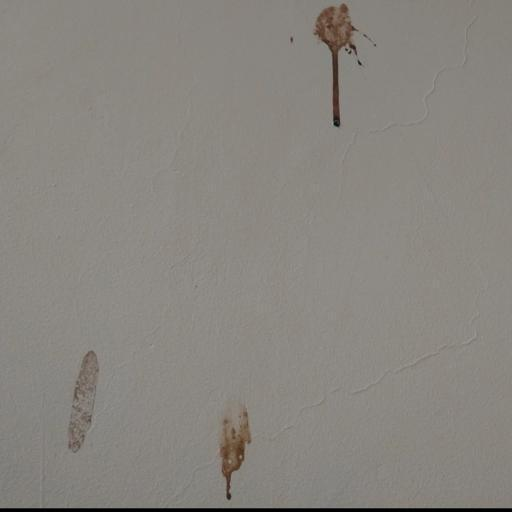stain: (284, 0, 379, 131), (51, 344, 119, 454), (197, 396, 254, 503)
